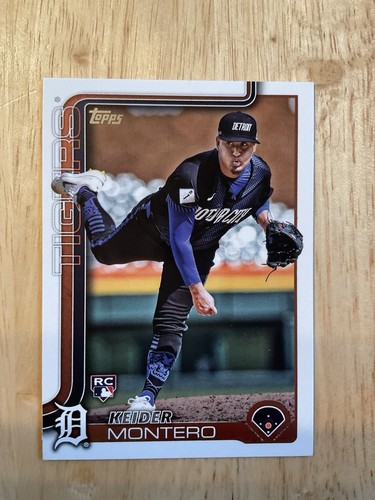egg: (37, 50, 337, 450)
